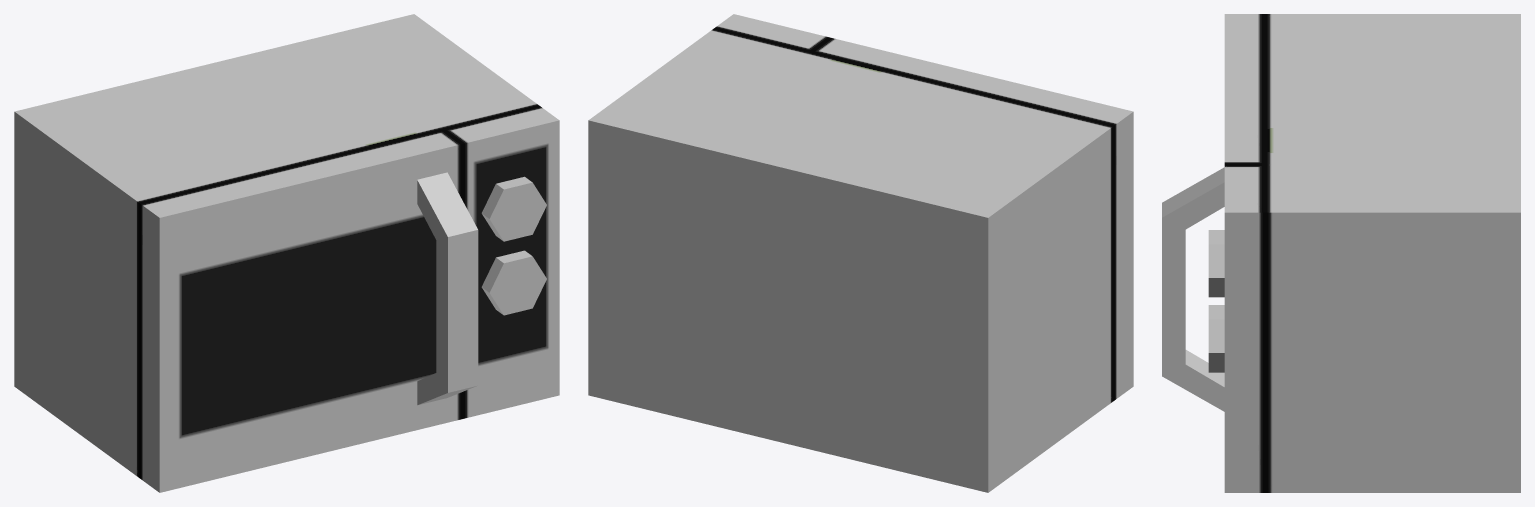
Rendered from microwave2_PLY.fbx.
The picture shows the model from 3 angles, left to right: view 1: azimuth 30°, elevation 25°; view 2: azimuth 150°, elevation 25°; view 3: azimuth 270°, elevation 25°; orthographic projection.
Parts seen in each view (by area): view 1: microwave2_PLY; view 2: microwave2_PLY; view 3: microwave2_PLY.
Part boxes in pixels (x1,y1,x2,y2): microwave2_PLY: (14,14,559,492); microwave2_PLY: (588,14,1133,492); microwave2_PLY: (1162,14,1520,492).
Size of the model in its own units: 2.38 by 1.56 by 1.82.
